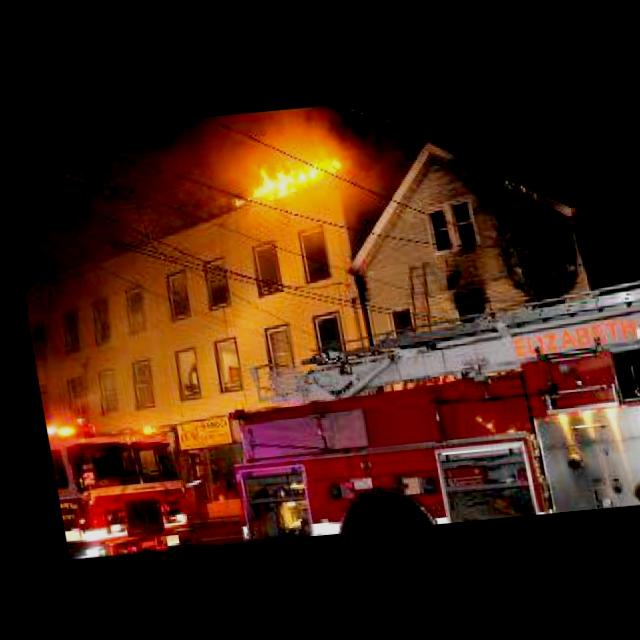Fire: (233, 155, 343, 201)
